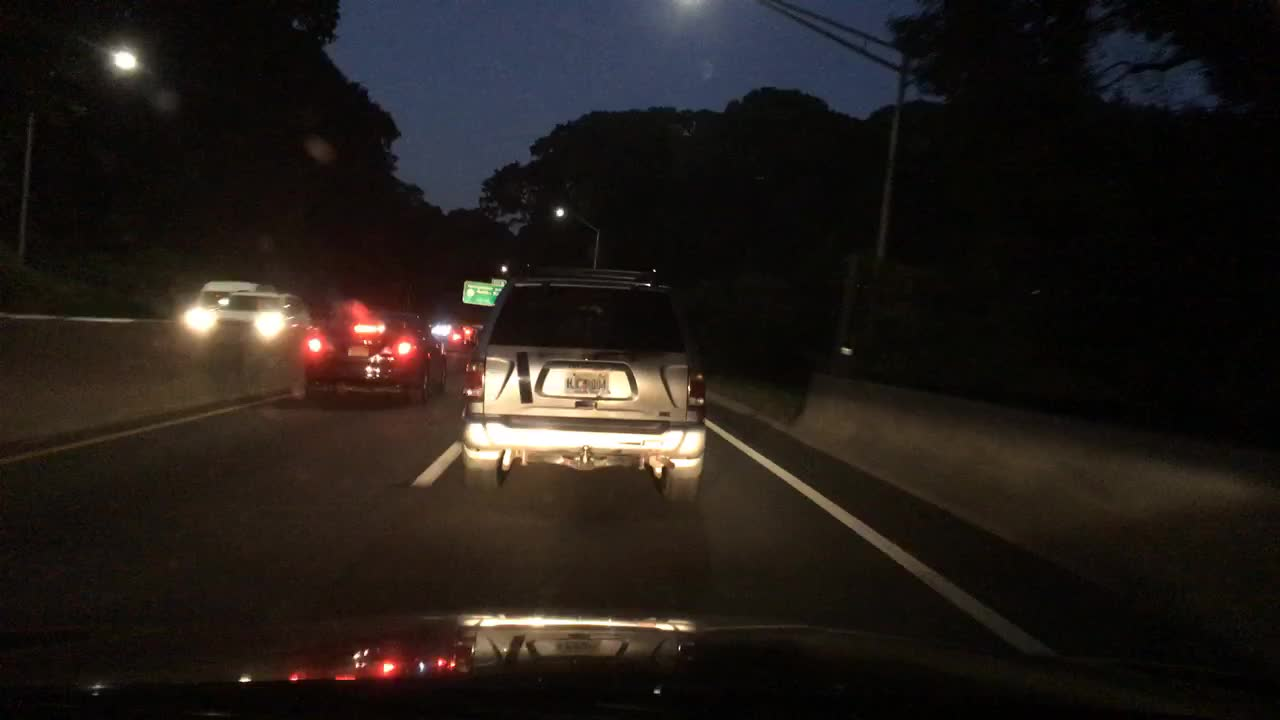car: (461, 269, 705, 510), (297, 309, 449, 408), (189, 290, 306, 373), (179, 278, 268, 339), (444, 326, 480, 352)
traffic sign: (460, 283, 497, 306), (490, 276, 503, 286)
